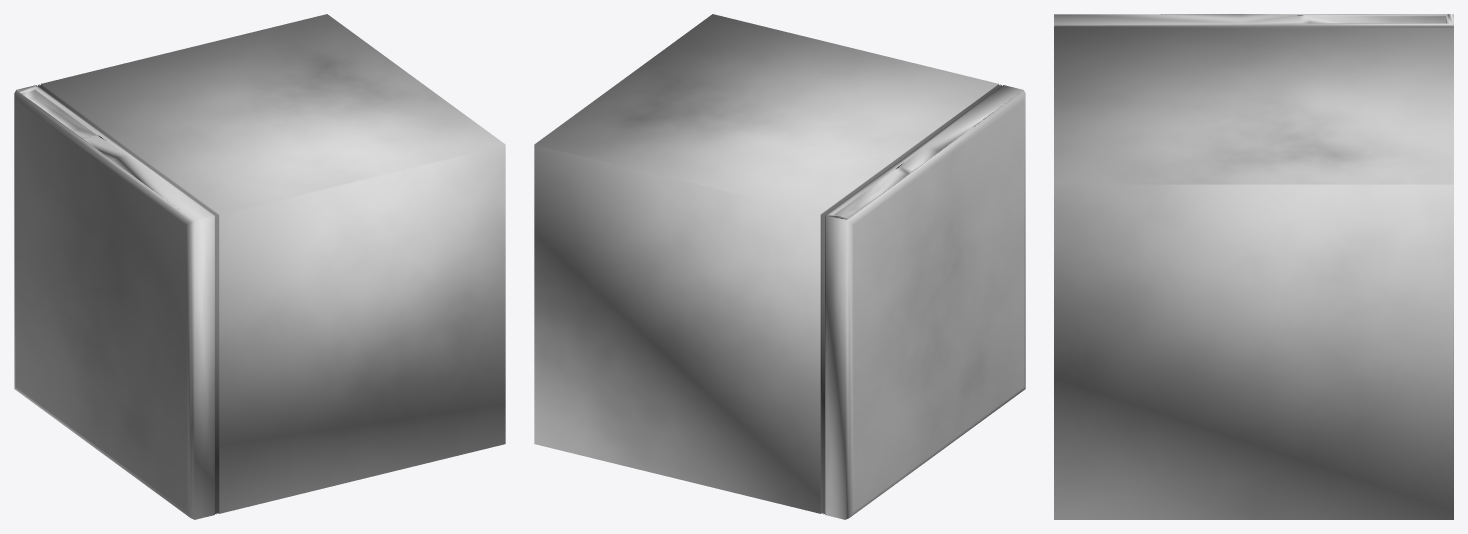
The model's file is Fridge1.fbx.
The picture shows the model from 3 angles, left to right: view 1: azimuth 30°, elevation 25°; view 2: azimuth 150°, elevation 25°; view 3: azimuth 270°, elevation 25°; orthographic projection. The views are drawn at different scales.
Parts seen in each view (by area): view 1: Fridge, FridgeDoor; view 2: Fridge, FridgeDoor; view 3: Fridge, FridgeDoor.
Part boxes in pixels (left/top/right/bottom): Fridge: left=41, top=14, right=505, bottom=513; FridgeDoor: left=14, top=84, right=219, bottom=519; Fridge: left=534, top=14, right=998, bottom=513; FridgeDoor: left=820, top=84, right=1025, bottom=519; Fridge: left=1054, top=28, right=1453, bottom=519; FridgeDoor: left=1054, top=14, right=1453, bottom=27.
Bounding box in the file's own units: 115 × 105 × 113.
